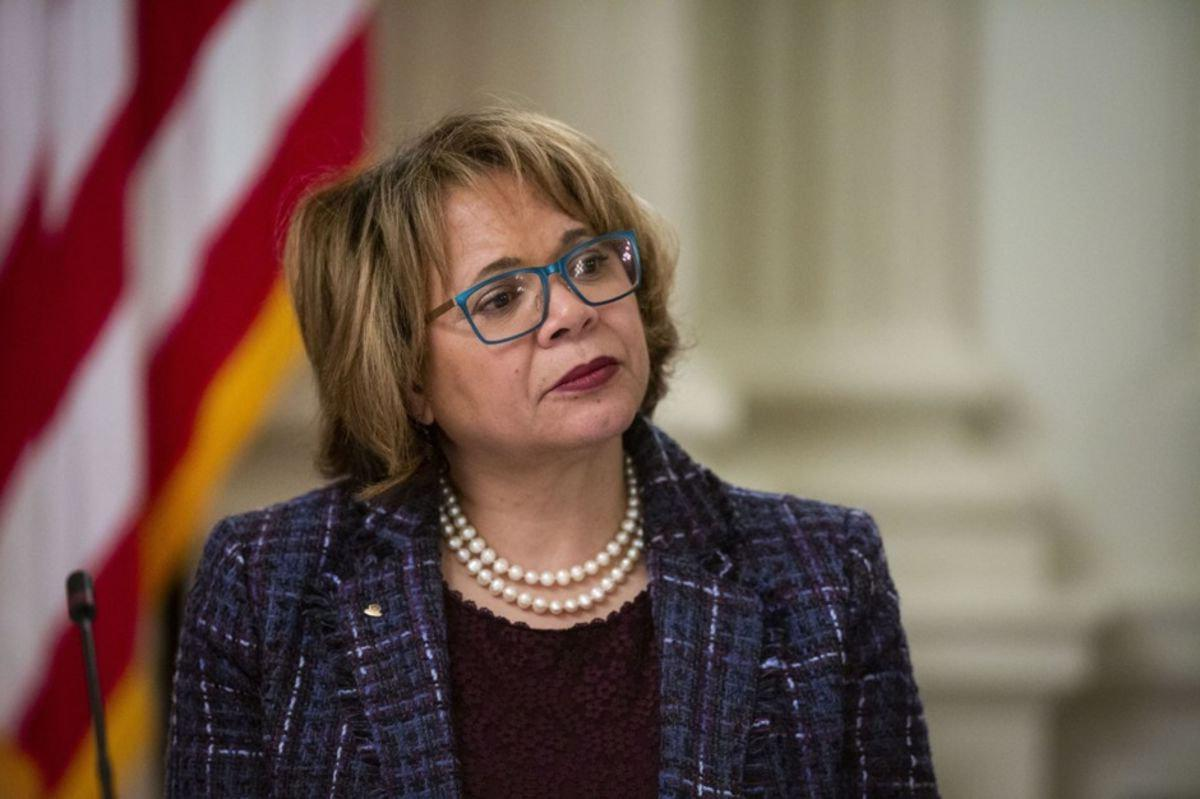Sober: (436, 184, 636, 432)
